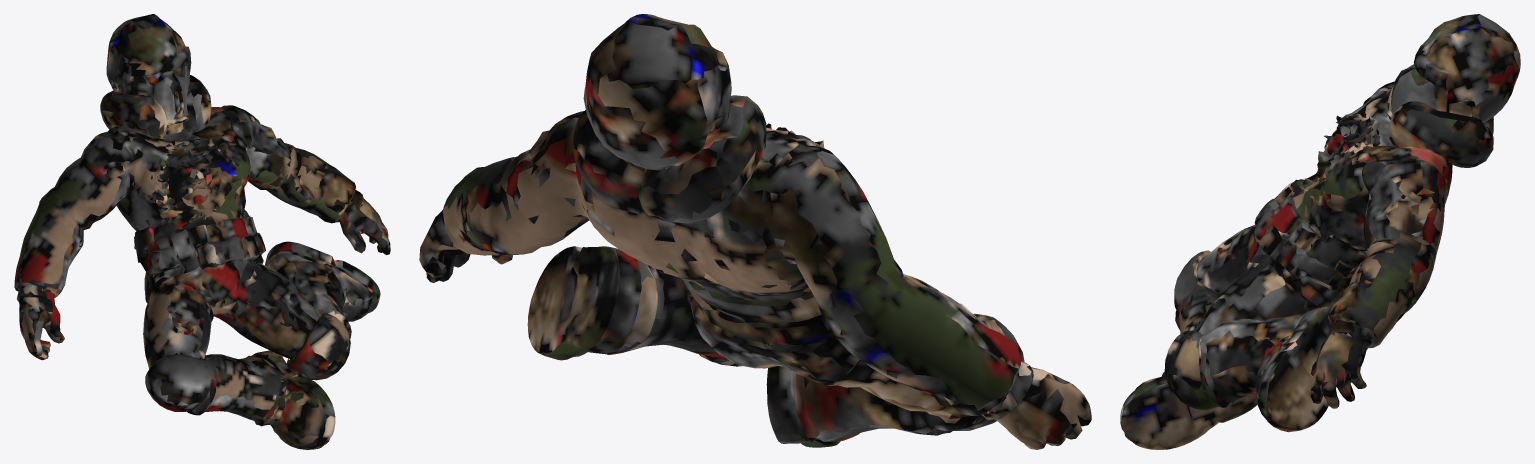
Rendered from POSSJ0.obj.
The picture shows the model from 3 angles, left to right: view 1: azimuth 30°, elevation 25°; view 2: azimuth 150°, elevation 25°; view 3: azimuth 270°, elevation 25°; orthographic projection. The views are drawn at different scales.
Size of the model in its own units: 0.9077 by 0.8091 by 0.7141.
Materials: 1 (1 with a texture image).
